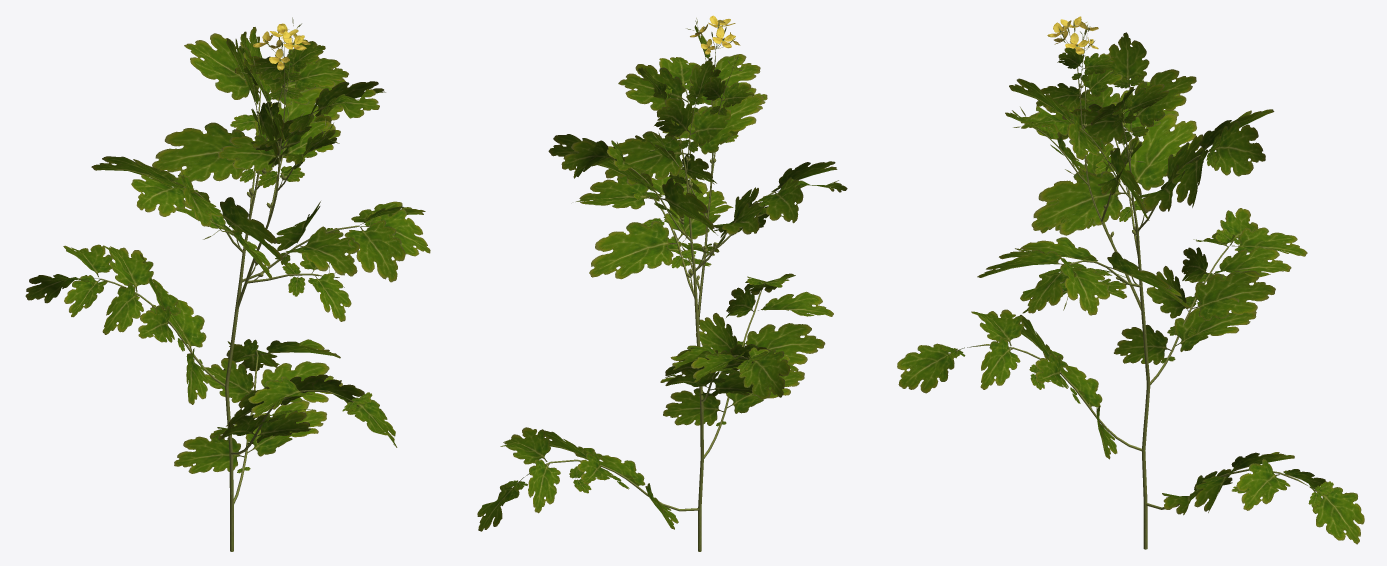
The picture shows the model from 3 angles, left to right: view 1: azimuth 30°, elevation 25°; view 2: azimuth 150°, elevation 25°; view 3: azimuth 270°, elevation 25°; orthographic projection. The views are drawn at different scales.
Visible parts, largest first — view 1: GC06_01; view 2: GC06_01; view 3: GC06_01.
Part boxes in pixels (bbox=[...]): GC06_01: bbox=[25, 17, 430, 551]; GC06_01: bbox=[477, 15, 847, 551]; GC06_01: bbox=[897, 16, 1364, 549].
Size of the model in its own units: 2.82 by 4.34 by 3.56.
5 materials, 5 textured.
